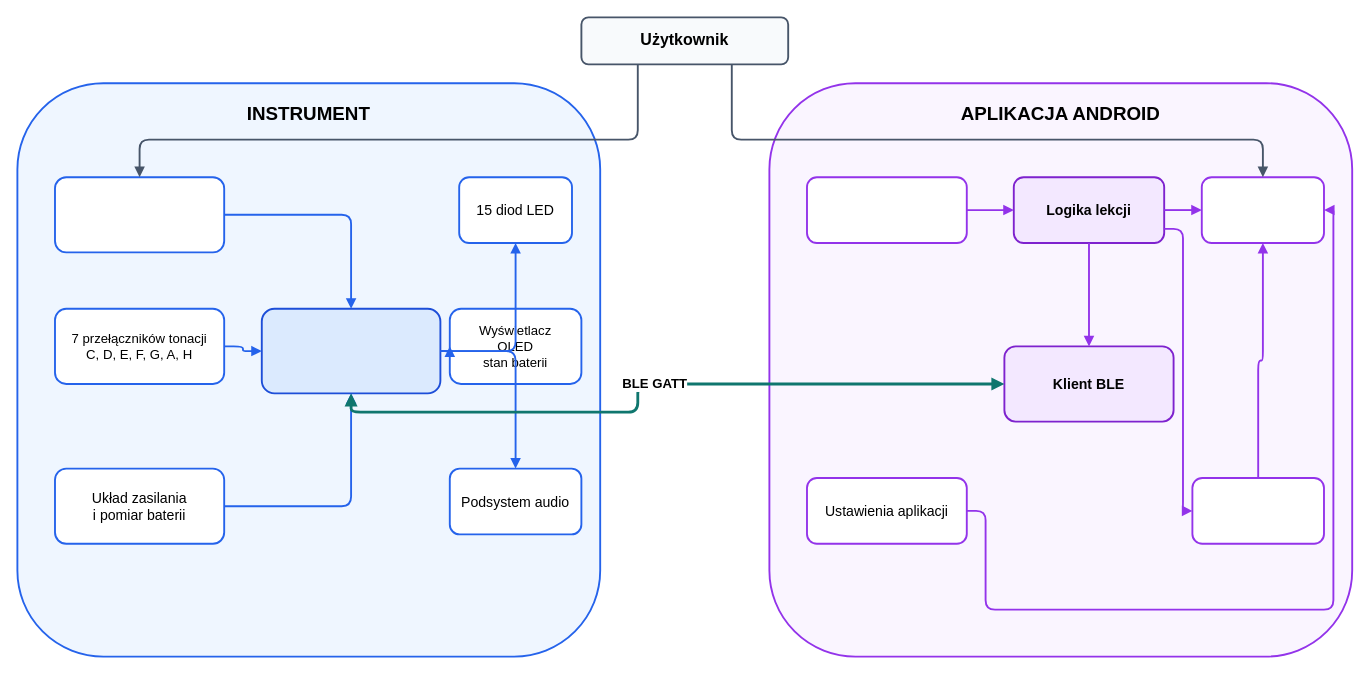
This 1369x673 diagram has some shape labels left out. The shapes that lost their labels are listed below. From the top down, each one's centre as x and y in pixels, then its label:
At pixel 139 214: "15 czujników wykrywanie wiązki".
At pixel 886 209: "Katalog utworów".
At pixel 1262 209: "Interfejs użytkownika".
At pixel 350 350: "STM32WB55 stan sprzętu i BLE GATT".
At pixel 1257 510: "Postęp użytkownika".
